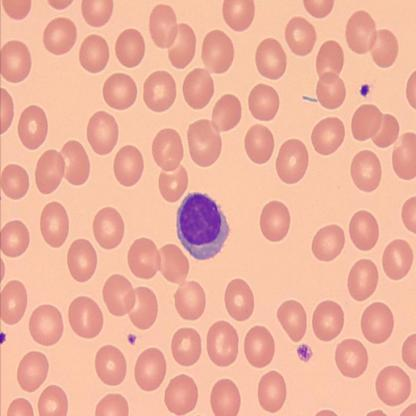Lymphocyte: (177, 191, 230, 261)
